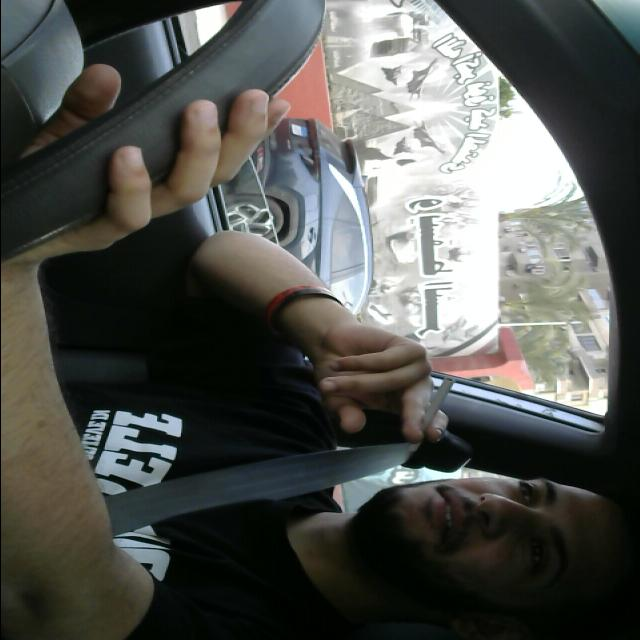smoking: (399, 373, 457, 449)
